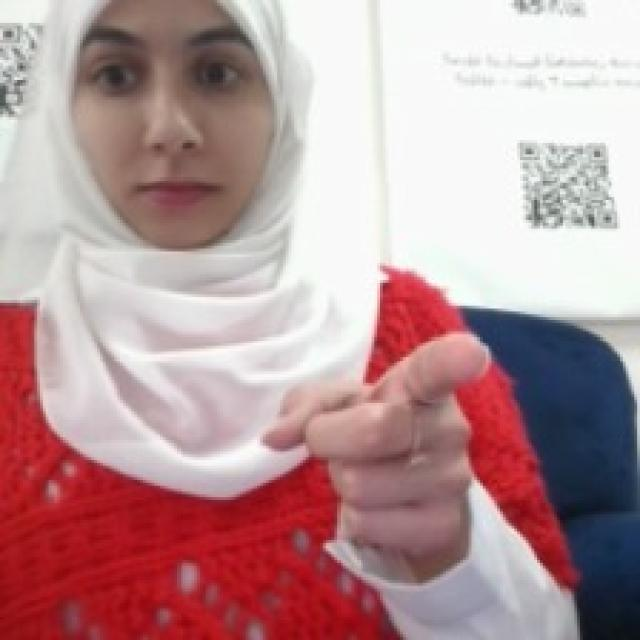you: (254, 323, 489, 583)
